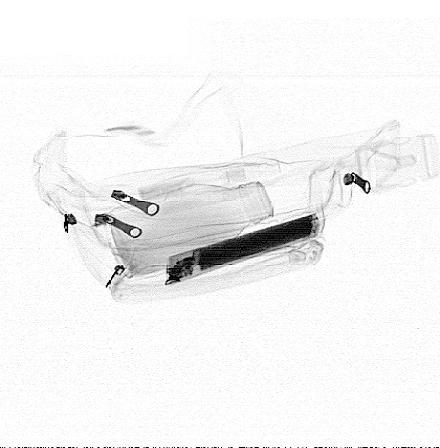Powerbank: (165, 211, 324, 286)
